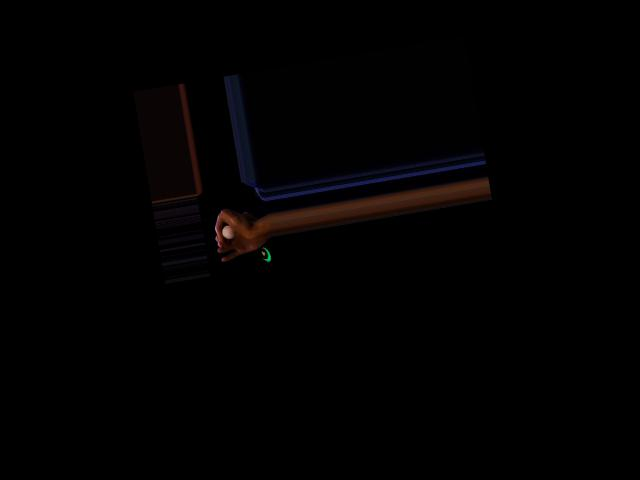egg: (220, 223, 234, 240)
